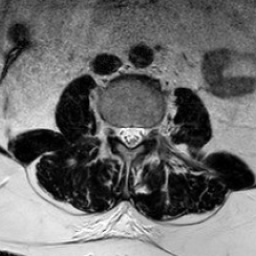CCS_normal: (126, 117, 135, 154)
LFS_normal: (144, 115, 154, 147)
LLS_normal: (135, 115, 144, 149)
RFS_normal: (107, 113, 117, 147)
RLS_normal: (117, 117, 126, 150)
